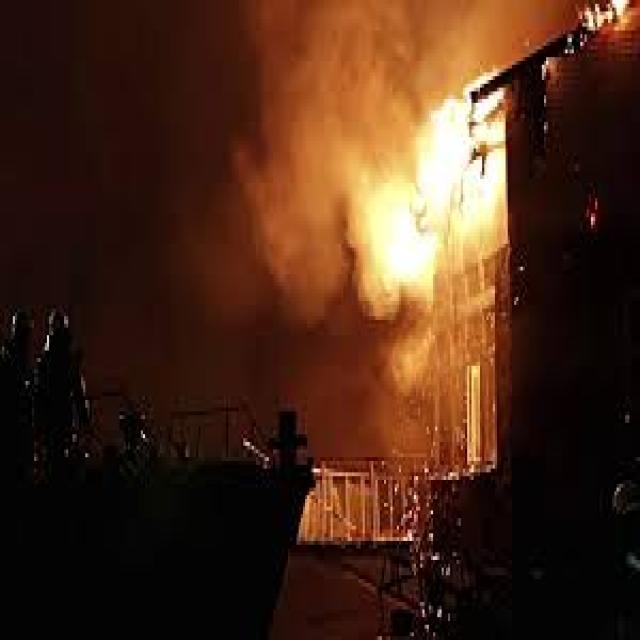Fire: (376, 113, 497, 311)
Smoke: (243, 0, 361, 320)
